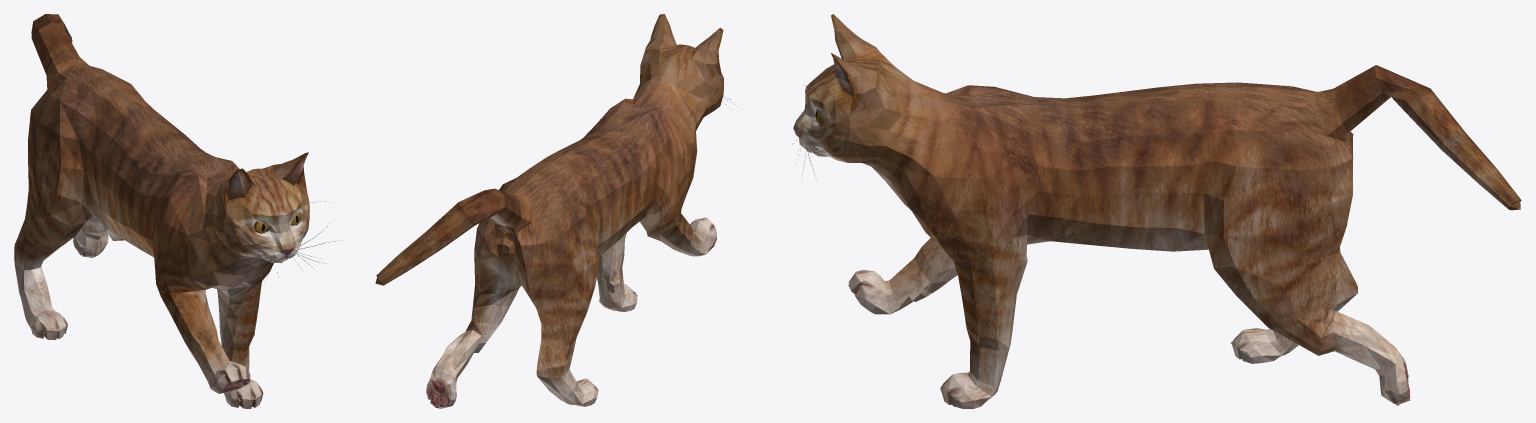
The model's file is cat2.obj.
3 renders of one model, left to right at view 1: azimuth 30°, elevation 25°; view 2: azimuth 150°, elevation 25°; view 3: azimuth 270°, elevation 25°, orthographic. The views are drawn at different scales.
Visible parts, largest first — view 1: cat; view 2: cat; view 3: cat.
Boxes of the visible parts, <box> form: cat: <box>14,14,340,408</box>; cat: <box>375,14,730,408</box>; cat: <box>792,14,1521,408</box>.
Size of the model in its own units: 0.3638 by 0.7026 by 1.33.
Materials: 1 (1 with a texture image).
